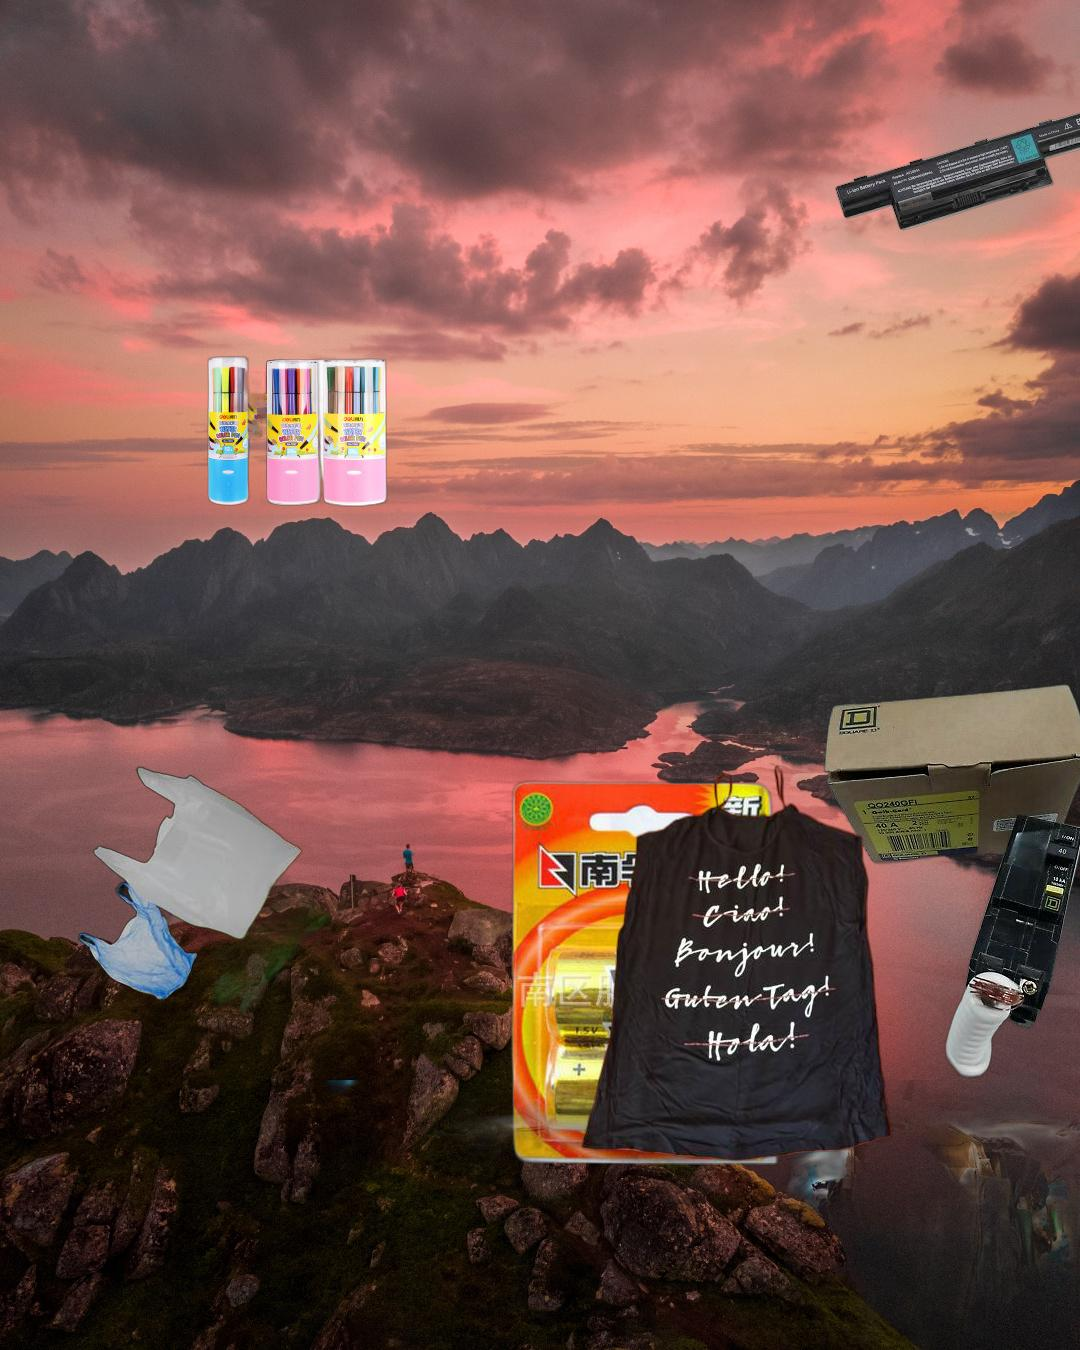battery: (506, 777, 785, 1169), (833, 98, 1080, 233)
clothes: (579, 762, 894, 1165)
penholder: (205, 347, 395, 509)
plastic-bag: (76, 764, 350, 1045)
trashbox-cardboard: (119, 1080, 1080, 1350), (823, 681, 1080, 1079)
